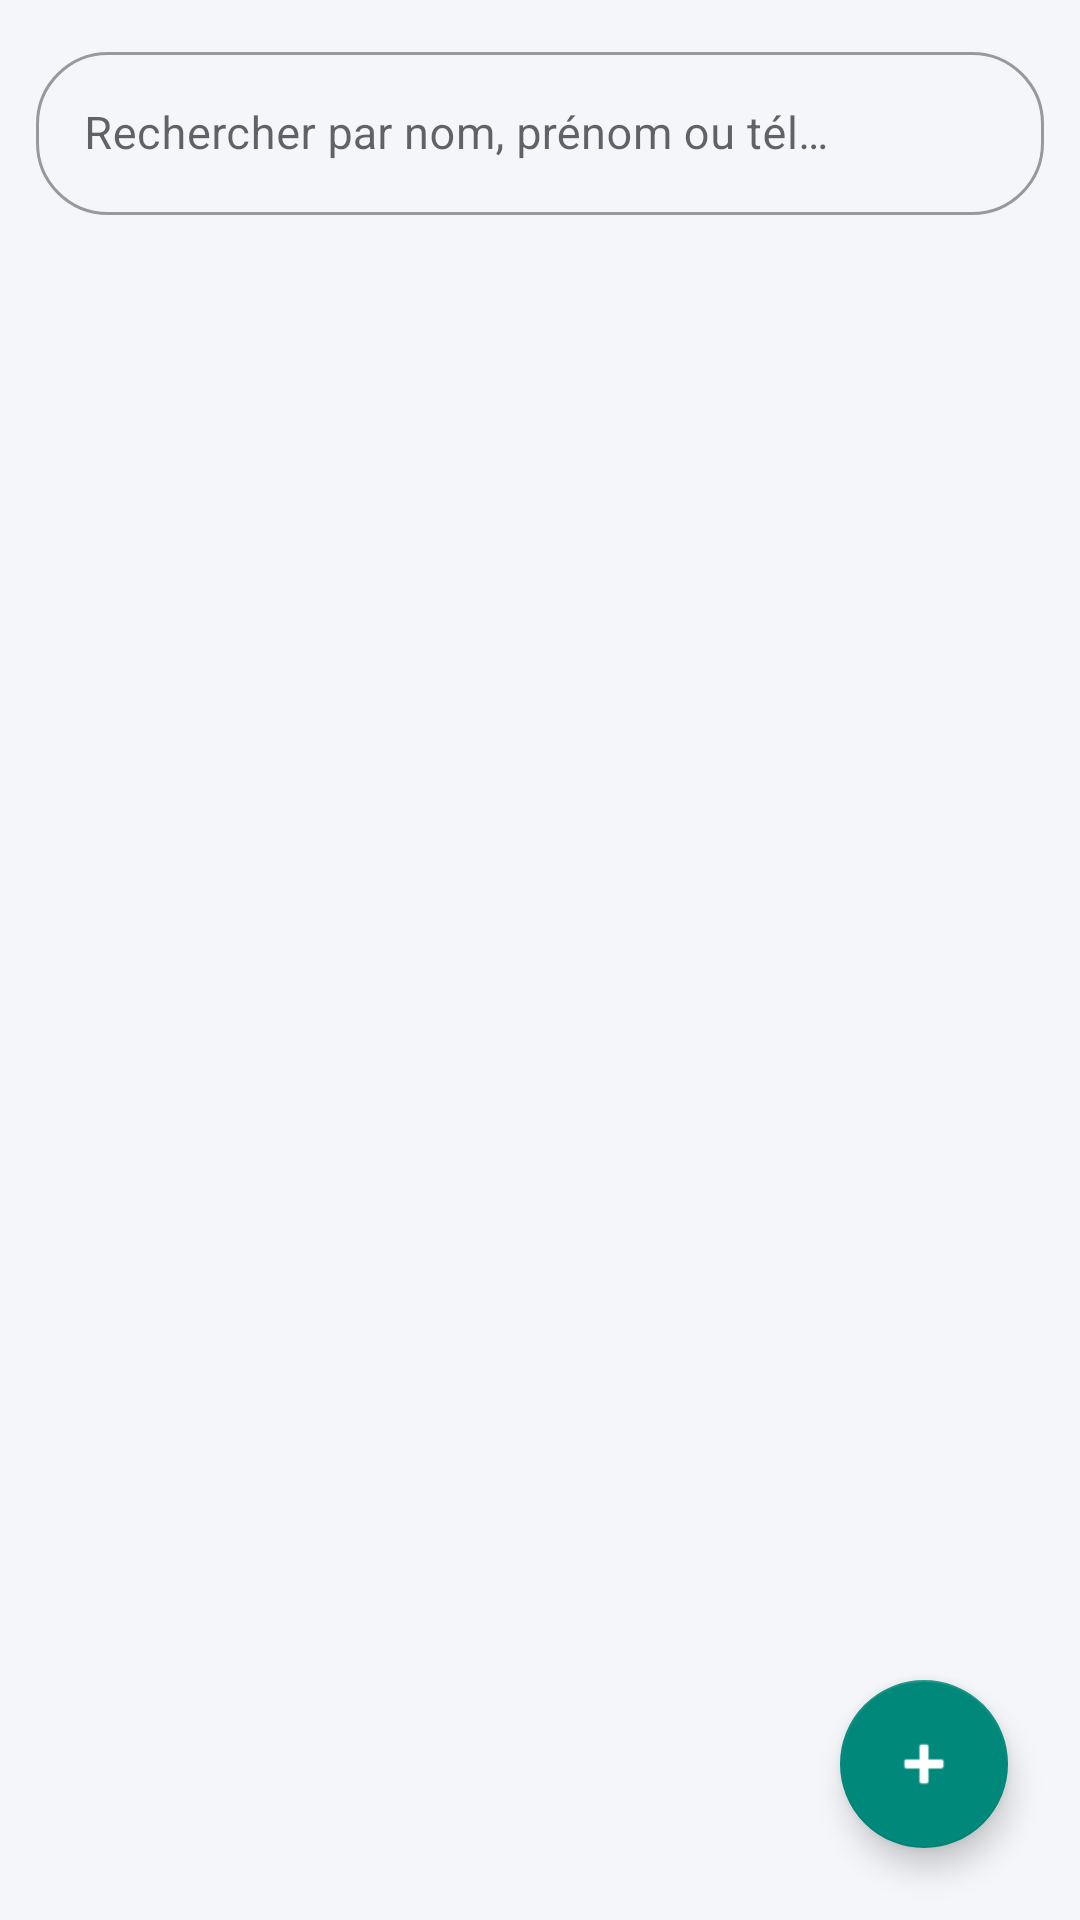

Screen size 1080 × 1920. Icon name, then its center in pixels as point (x, y):
Nouveau Contact: point (924, 1764)
